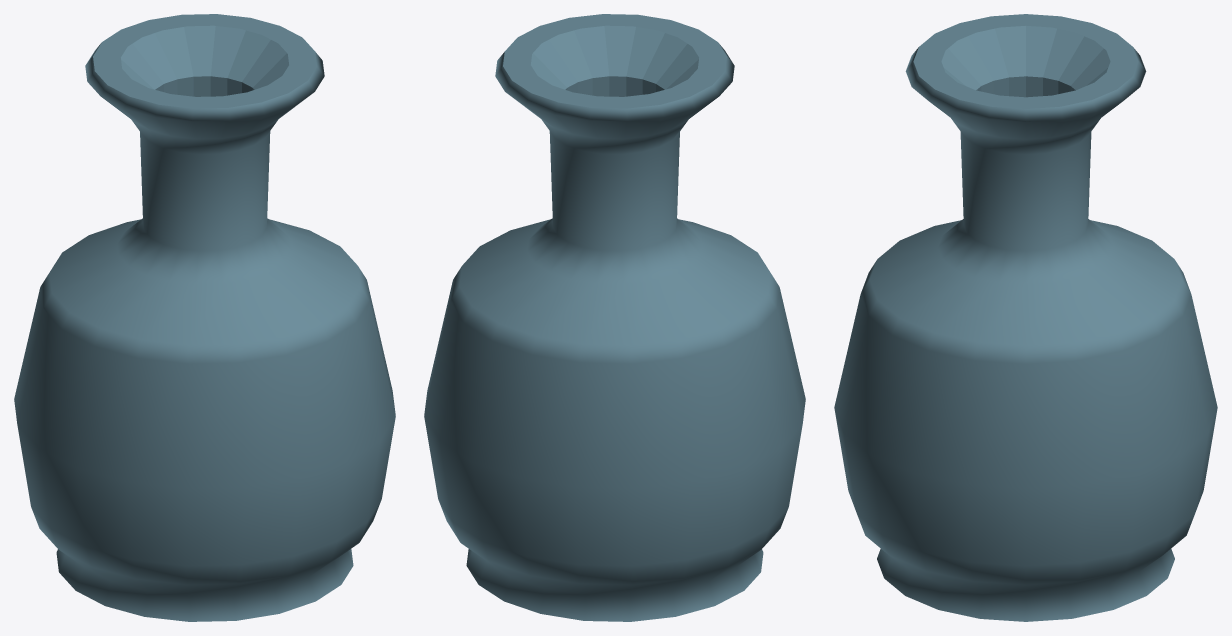
Rendered from Vase1.fbx.
3 views of the same model, side by side, from view 1: azimuth 30°, elevation 25°; view 2: azimuth 150°, elevation 25°; view 3: azimuth 270°, elevation 25° (orthographic).
Parts seen in each view (by area): view 1: pCylinder2; view 2: pCylinder2; view 3: pCylinder2.
Boxes of the visible parts, <box> form: pCylinder2: <box>14,14,395,621</box>; pCylinder2: <box>424,14,805,621</box>; pCylinder2: <box>834,14,1217,621</box>.
Size of the model in its own units: 3.12 by 4.47 by 3.12.
